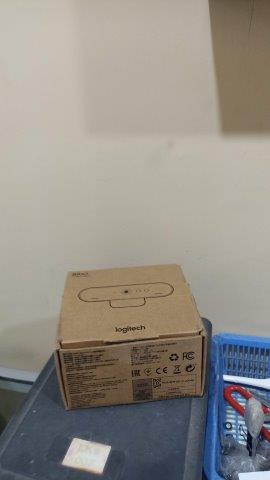kardus: (57, 265, 204, 408)
